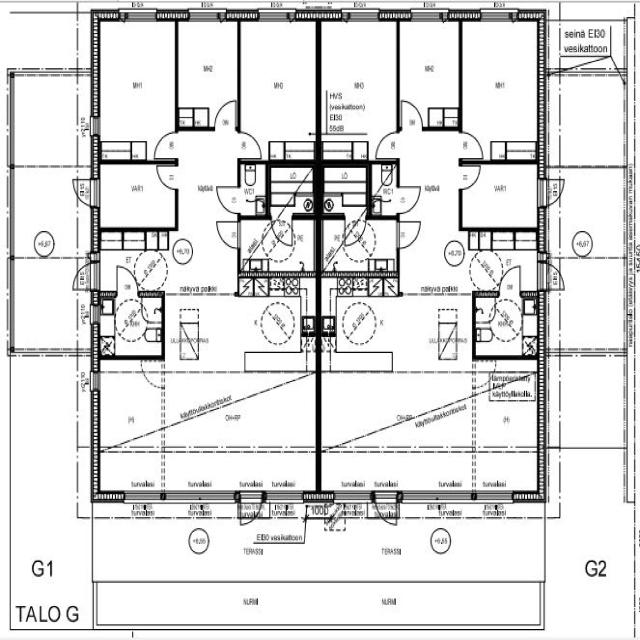door: (472, 233, 534, 294), (235, 166, 267, 216), (395, 217, 423, 252), (214, 217, 242, 251), (458, 128, 486, 160), (374, 128, 402, 160), (236, 128, 263, 160), (214, 183, 241, 214), (153, 128, 179, 160), (213, 97, 237, 131), (396, 183, 422, 214), (399, 98, 424, 130), (457, 162, 483, 192), (154, 161, 179, 192), (374, 492, 399, 523), (115, 264, 138, 297), (498, 265, 522, 295), (74, 177, 98, 206), (239, 494, 261, 524), (141, 360, 163, 389), (73, 261, 93, 291), (545, 177, 563, 206)
window: (479, 7, 517, 26), (121, 7, 158, 26), (256, 8, 295, 25), (342, 8, 381, 25), (122, 488, 163, 504), (408, 9, 446, 25), (264, 489, 304, 504), (187, 8, 224, 24), (331, 490, 373, 504), (476, 489, 514, 503), (90, 115, 102, 138), (91, 369, 100, 394)
zone: (96, 19, 177, 160), (320, 20, 400, 161), (238, 20, 318, 159), (461, 21, 539, 160), (178, 289, 306, 370), (332, 290, 440, 374), (10, 167, 86, 260), (10, 73, 84, 168), (11, 257, 85, 352), (551, 168, 628, 259), (555, 74, 628, 168), (554, 258, 627, 352), (398, 19, 461, 126), (558, 354, 627, 450), (177, 19, 238, 124), (96, 359, 163, 454), (460, 162, 541, 232), (96, 162, 177, 230), (319, 217, 399, 275), (238, 216, 316, 274), (98, 231, 172, 292), (469, 230, 539, 293), (472, 290, 536, 358), (100, 295, 164, 357), (340, 283, 386, 362), (476, 401, 539, 450), (473, 450, 540, 496), (97, 448, 165, 493), (320, 164, 370, 216), (268, 164, 316, 216), (239, 160, 268, 218), (370, 160, 398, 217)
